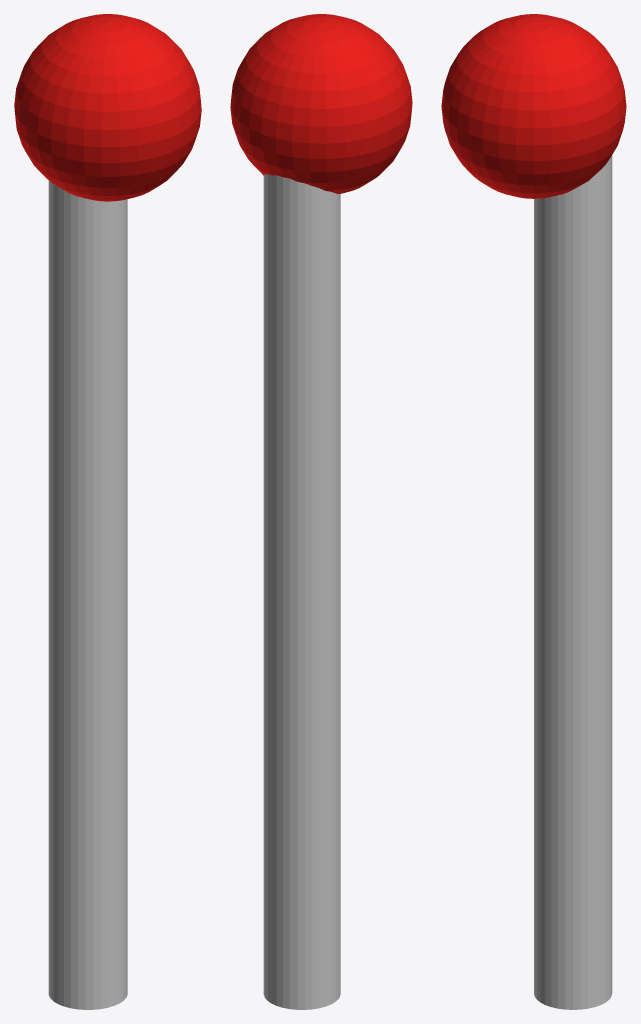
File: Red.dae
3 views of the same model, side by side, from view 1: azimuth 30°, elevation 25°; view 2: azimuth 150°, elevation 25°; view 3: azimuth 270°, elevation 25° (orthographic). The views are drawn at different scales.
Parts seen in each view (by area): view 1: Circle, Sphere; view 2: Circle, Sphere; view 3: Circle, Sphere.
Boxes of the visible parts, <box> form: Circle: <box>48,180,127,1009</box>; Sphere: <box>14,14,201,201</box>; Circle: <box>263,174,340,1009</box>; Sphere: <box>230,14,412,193</box>; Circle: <box>534,155,612,1009</box>; Sphere: <box>441,14,626,198</box>.
Bounding box in the file's own units: 0.2655 × 0.2655 × 1.54.
